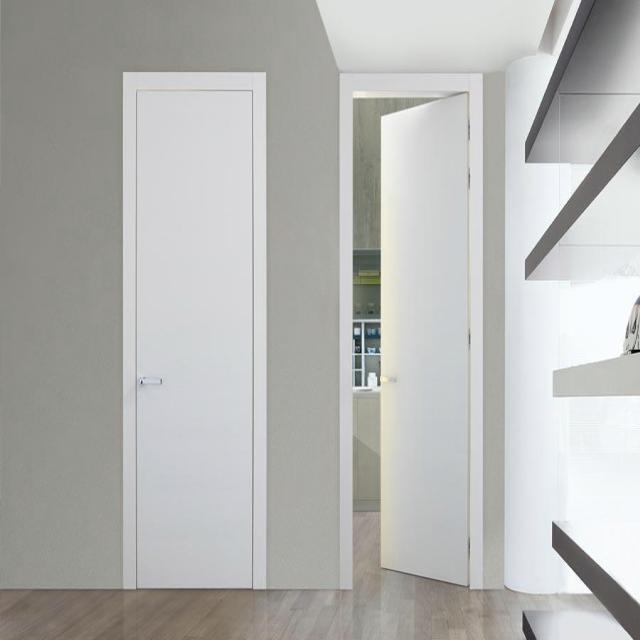door: (331, 65, 487, 607), (120, 58, 272, 600)
